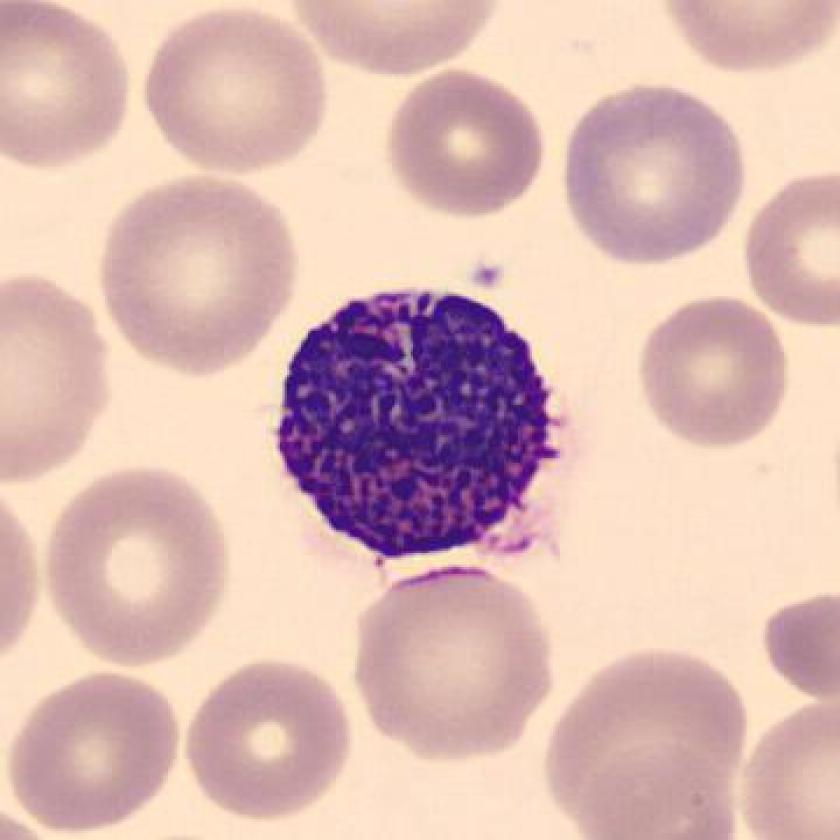basophil: (277, 279, 564, 563)
